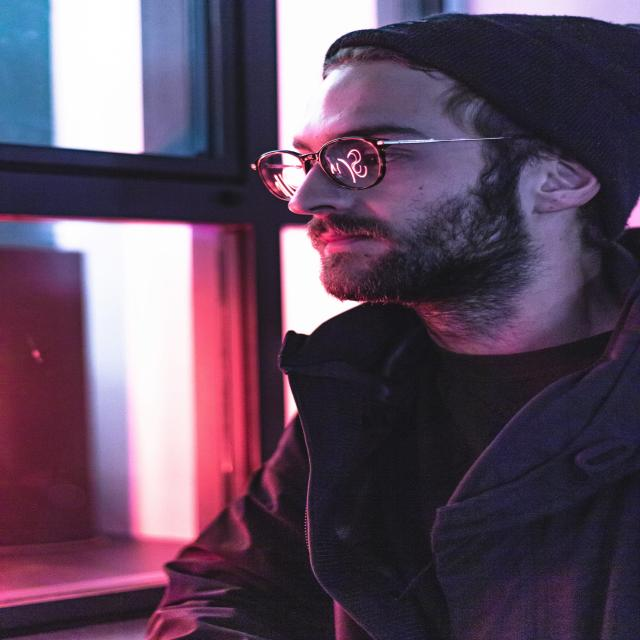adult: (168, 6, 640, 640)
